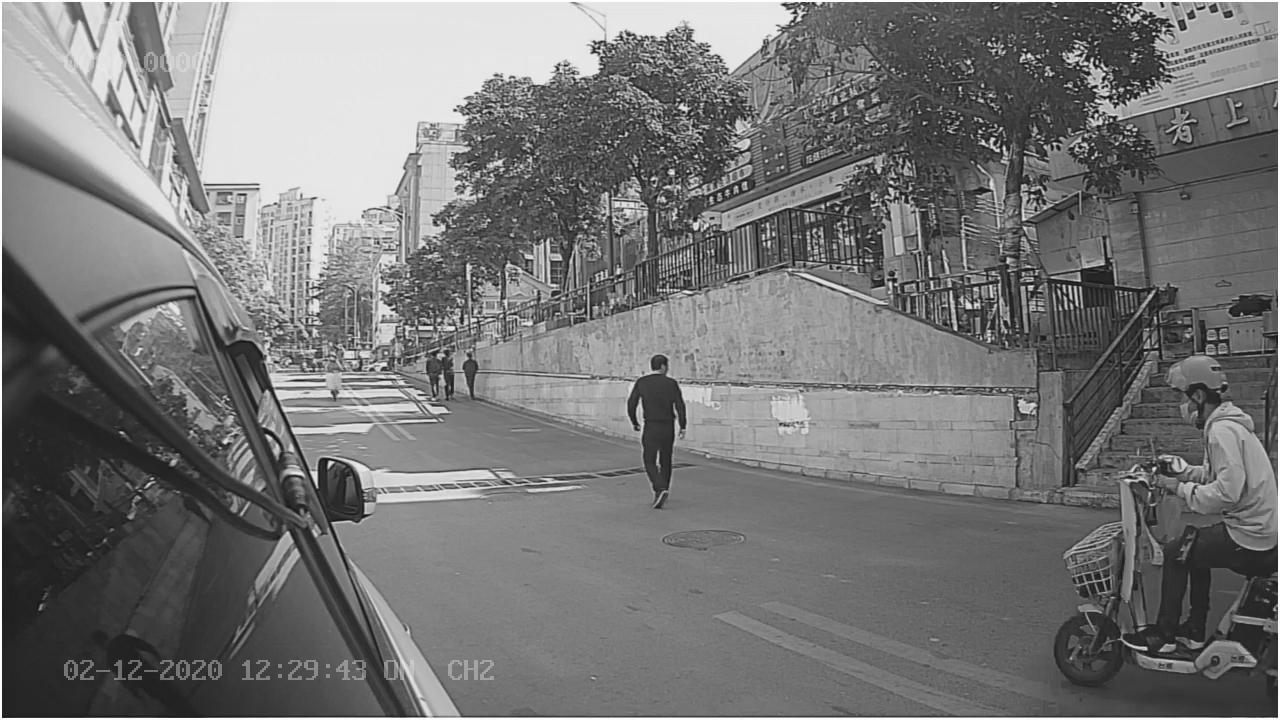person: (1159, 346, 1274, 526), (612, 349, 699, 519)
